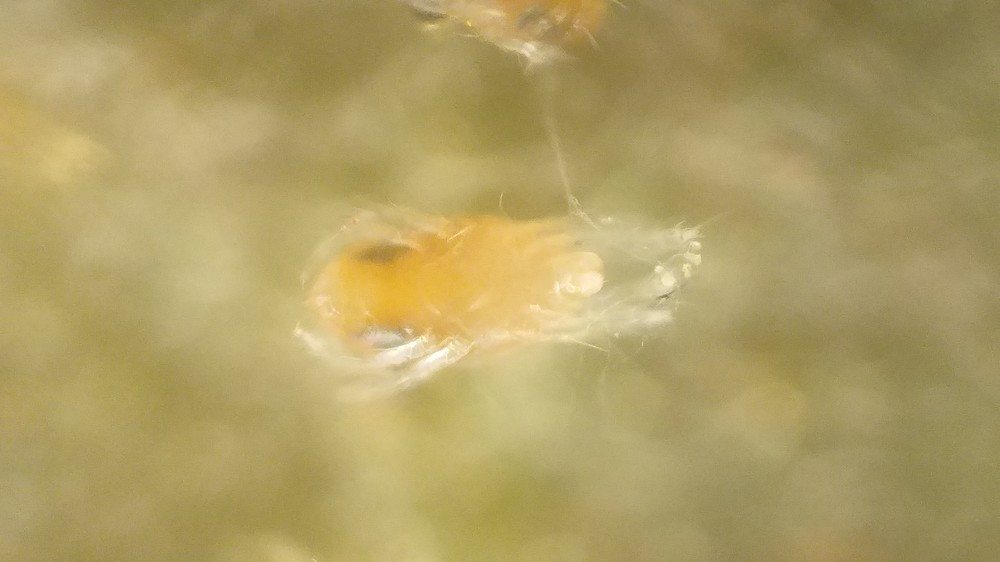Aracnido Rojo: (288, 154, 730, 425)
